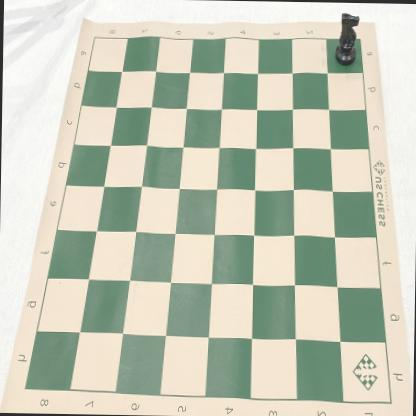black-knight: (333, 13, 359, 66)
